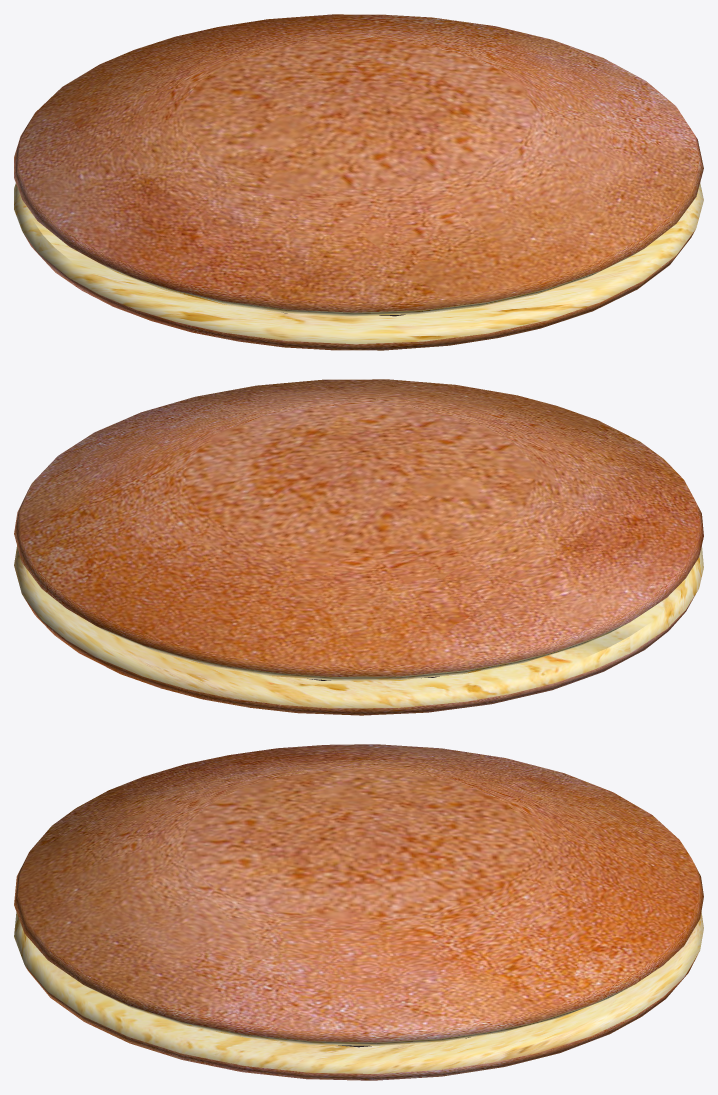
File: Dorayaki.fbx
3 renders of one model, top to bottom at view 1: azimuth 30°, elevation 25°; view 2: azimuth 150°, elevation 25°; view 3: azimuth 270°, elevation 25°, orthographic.
Visible parts, largest first — view 1: dorayaki-anko; view 2: dorayaki-anko; view 3: dorayaki-anko.
Boxes of the visible parts, box(x1,y1,x2,y2) form: dorayaki-anko: box(14, 14, 703, 350); dorayaki-anko: box(14, 379, 703, 715); dorayaki-anko: box(14, 744, 703, 1080).
Size of the model in its own units: 10 by 2.65 by 10.
2 materials, 2 textured.
